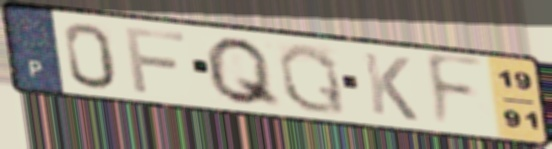0: (60, 20, 121, 91)
F: (423, 50, 489, 131), (121, 25, 190, 96)
K: (359, 49, 421, 123)
Q: (202, 34, 286, 111), (274, 41, 350, 118)
